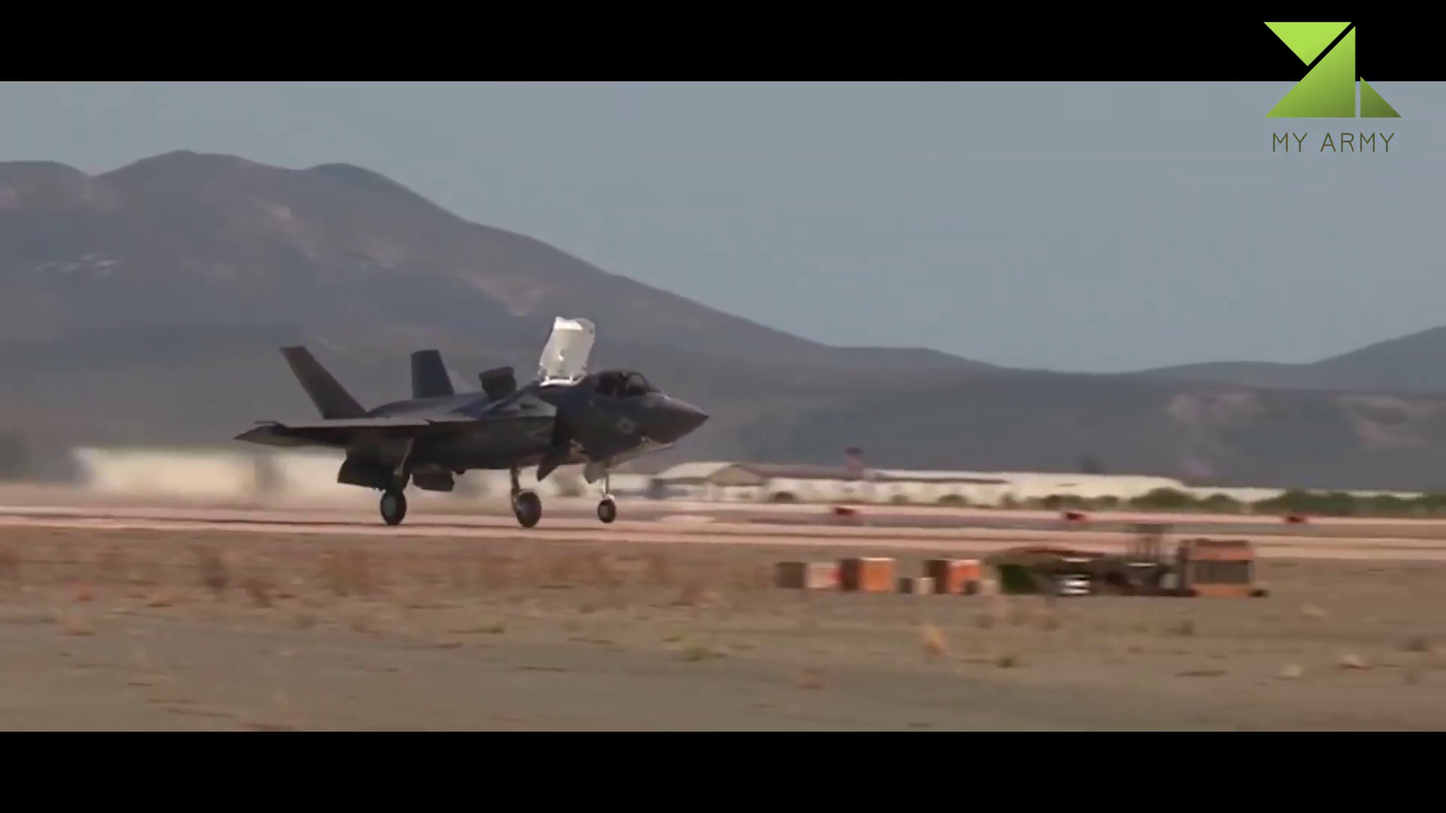F35: (232, 314, 709, 529)
